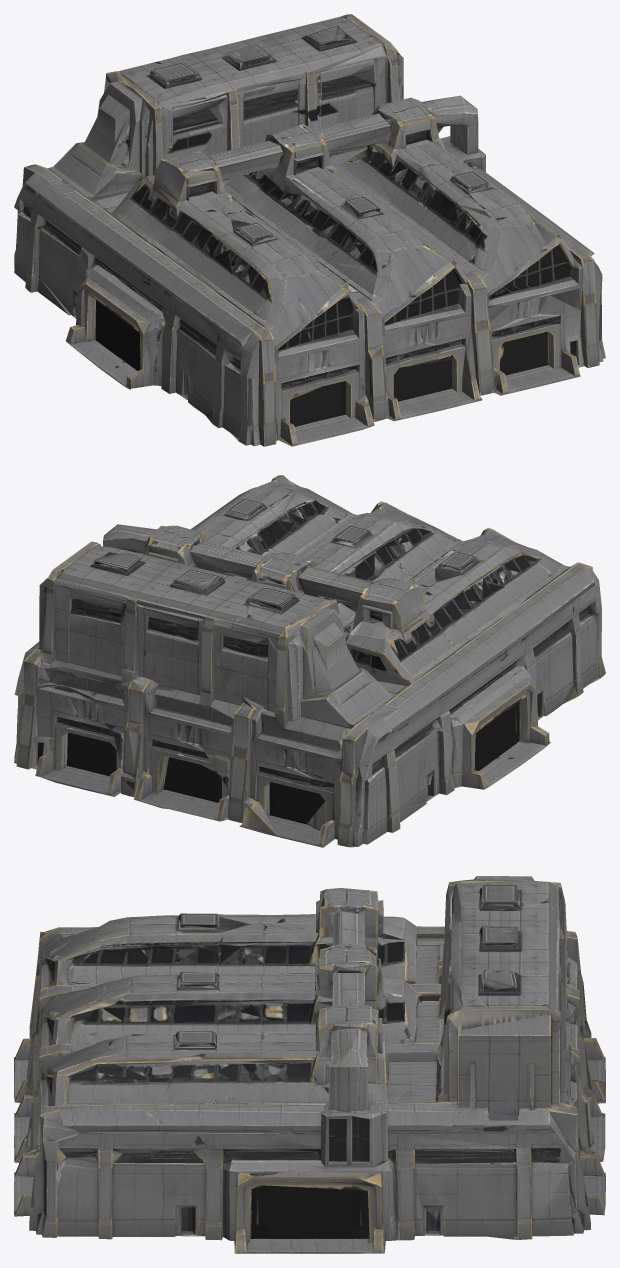
Rendered from imperial_goods_manufactory_lod1.glb.
3 views of the same model, one above another, from view 1: azimuth 30°, elevation 25°; view 2: azimuth 150°, elevation 25°; view 3: azimuth 270°, elevation 25° (orthographic). The views are drawn at different scales.
Visible parts, largest first — view 1: mesh_node; view 2: mesh_node; view 3: mesh_node.
Boxes of the visible parts, x1,y1,x2,y2 form: mesh_node: (14,14,605,446); mesh_node: (14,475,605,847); mesh_node: (14,876,605,1253).
Size of the model in its own units: 29.14 by 12.85 by 31.52.
Materials: 1 (1 with a texture image).
